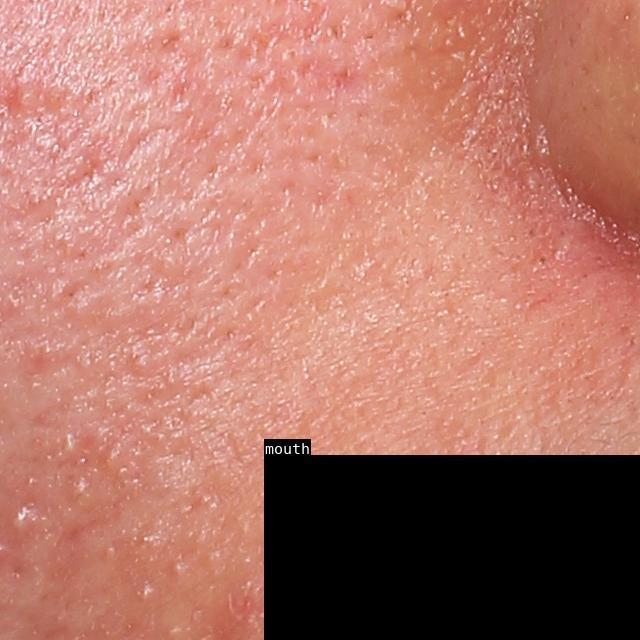comedo: (167, 558, 189, 584), (134, 579, 154, 607)
